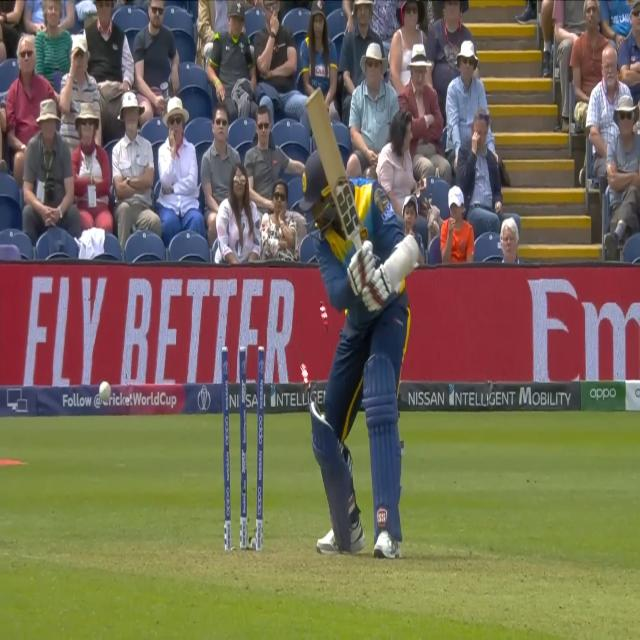ball: (94, 378, 114, 406)
